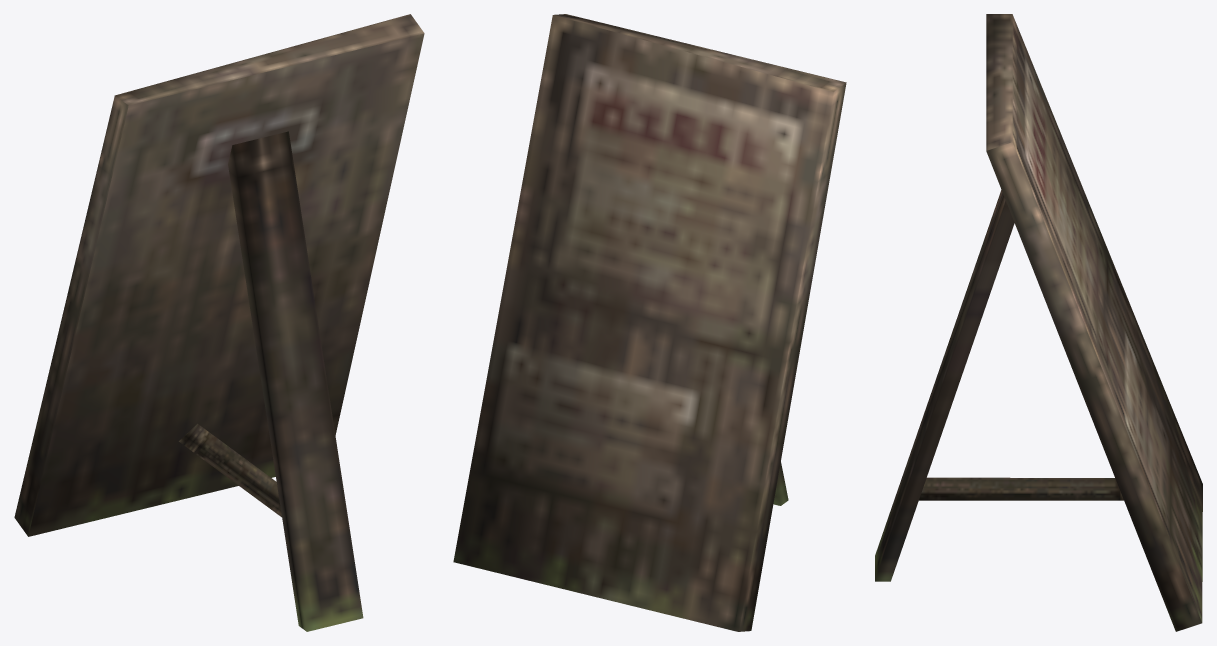
Rendered from OZ_24_ta_panel01A.glb.
The picture shows the model from 3 angles, left to right: view 1: azimuth 30°, elevation 25°; view 2: azimuth 150°, elevation 25°; view 3: azimuth 270°, elevation 25°; orthographic projection. The views are drawn at different scales.
Visible parts, largest first — view 1: OM_24_ta_panel01A; view 2: OM_24_ta_panel01A; view 3: OM_24_ta_panel01A.
Boxes of the visible parts, x1,y1,x2,y2 form: OM_24_ta_panel01A: (14,14,424,631); OM_24_ta_panel01A: (453,14,846,631); OM_24_ta_panel01A: (875,14,1202,631).
Size of the model in its own units: 0.3998 by 0.6631 by 0.3982.
1 material, 1 textured.
